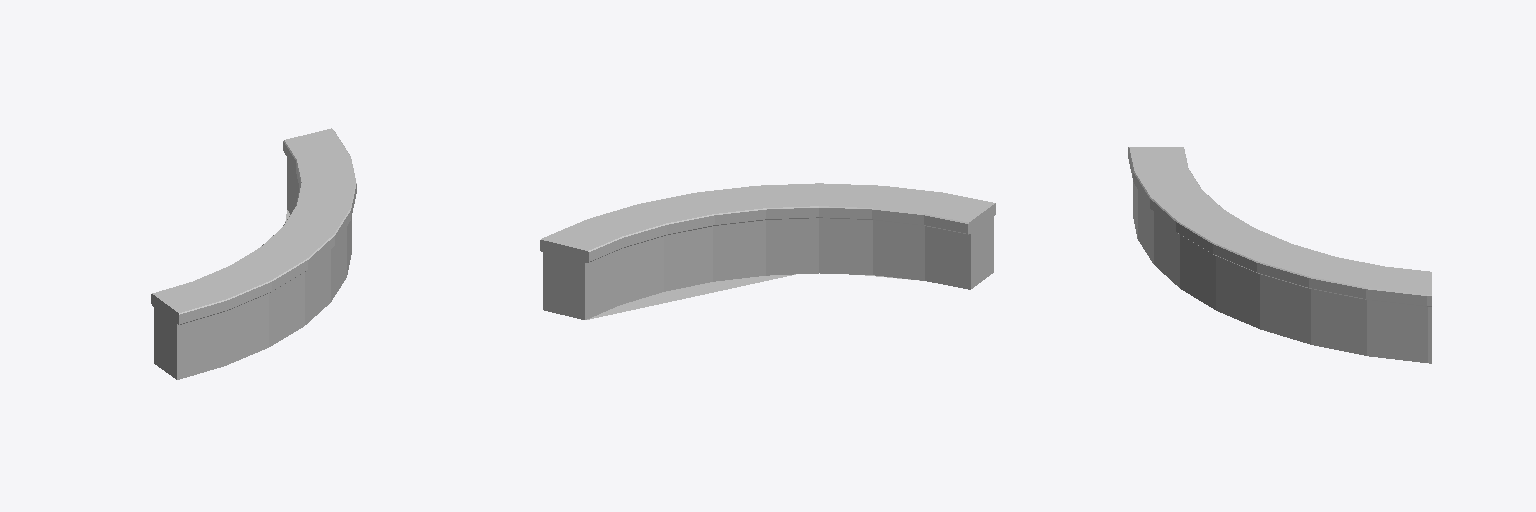
Rendered from counter1.obj.
3 views of the same model, side by side, from view 1: azimuth 30°, elevation 25°; view 2: azimuth 150°, elevation 25°; view 3: azimuth 270°, elevation 25° (orthographic).
Visible parts, largest first — view 1: Boundry_Wall_Brick_Curved_02; view 2: Boundry_Wall_Brick_Curved_02; view 3: Boundry_Wall_Brick_Curved_02.
Part boxes in pixels (bbox=[...]): Boundry_Wall_Brick_Curved_02: bbox=[151, 128, 356, 379]; Boundry_Wall_Brick_Curved_02: bbox=[540, 183, 995, 319]; Boundry_Wall_Brick_Curved_02: bbox=[1128, 147, 1431, 363].
Size of the model in its own units: 4.3 by 0.9438 by 3.71.